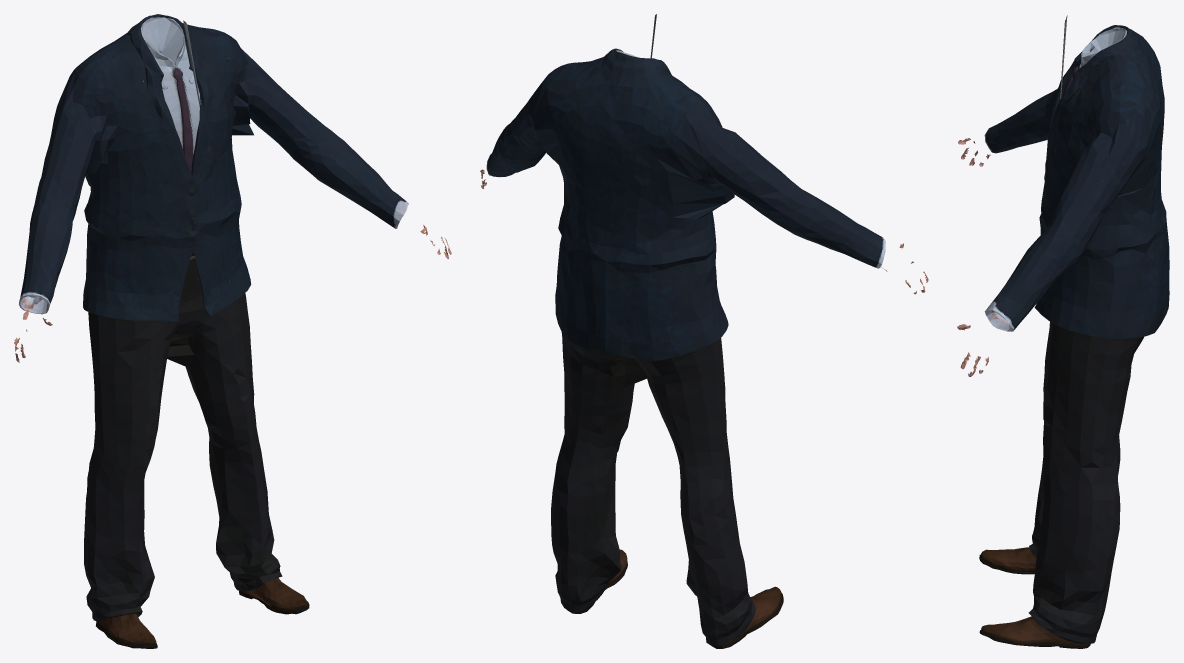
Rendered from ewm_t2professor_outfit.glb.
3 views of the same model, side by side, from view 1: azimuth 30°, elevation 25°; view 2: azimuth 150°, elevation 25°; view 3: azimuth 270°, elevation 25° (orthographic). The views are drawn at different scales.
Visible parts, largest first — view 1: ewm_t2professor_outfit; view 2: ewm_t2professor_outfit; view 3: ewm_t2professor_outfit.
Part boxes in pixels (box(x1,y1,x2,y2)): ewm_t2professor_outfit: box(14, 14, 451, 648); ewm_t2professor_outfit: box(480, 14, 928, 648); ewm_t2professor_outfit: box(957, 15, 1169, 648).
Size of the model in its own units: 1.3 by 1.71 by 0.5497.
1 material, 1 textured.
